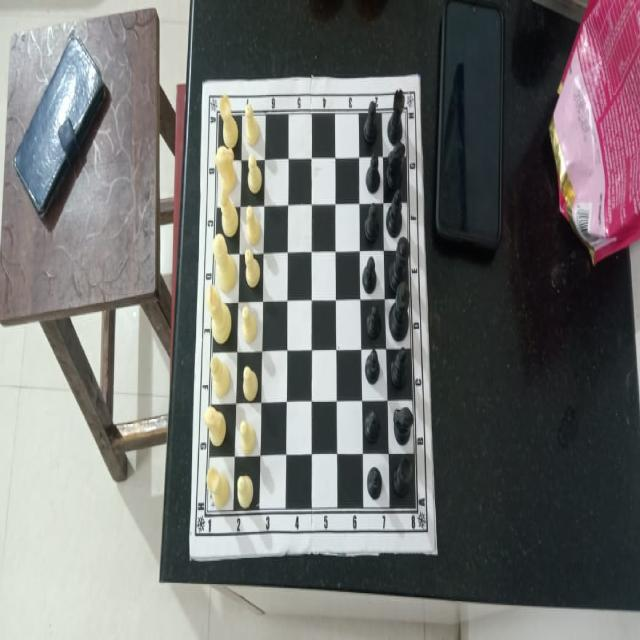corners: (430, 536, 444, 563), (185, 544, 196, 568), (198, 75, 208, 96), (413, 70, 421, 91)
